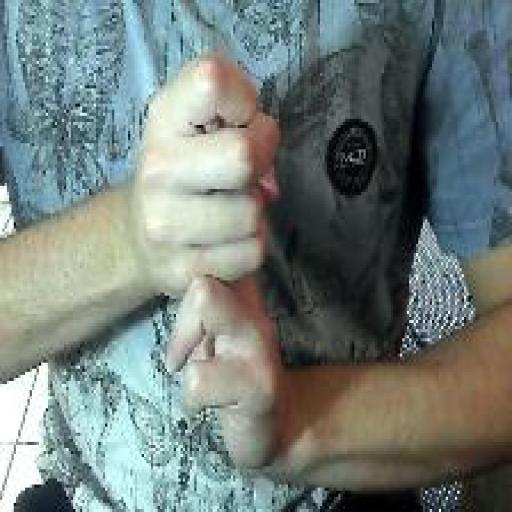Ne -rat-: (132, 50, 289, 483)
